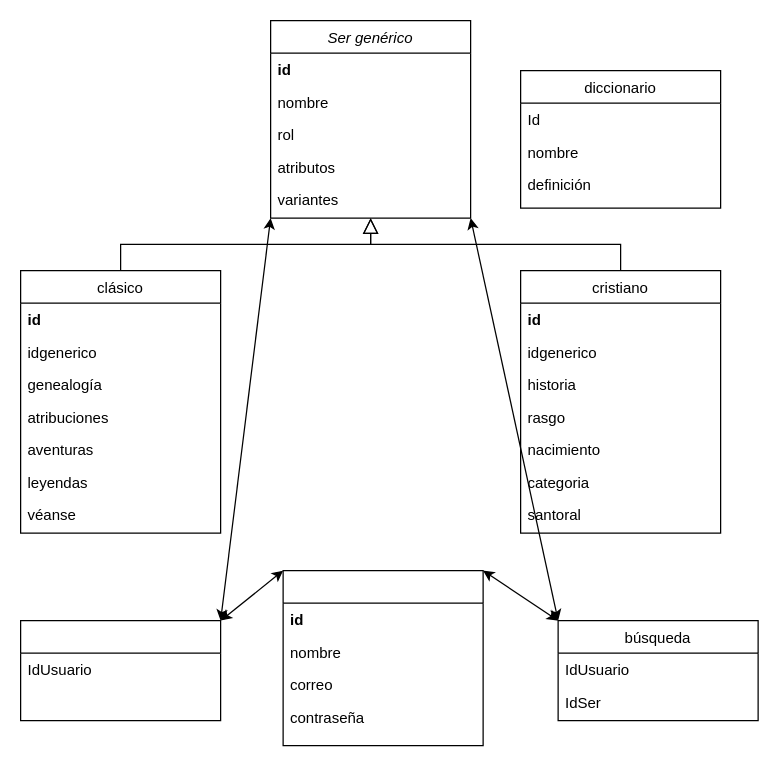
Some shapes in this 779 by 766 pixel diagram are drawn without their labels. The shapes that lost their labels are listed below. From the top down, each one's box as (x1, y1, x2, y2) in pixels, then its label:
(19, 619, 221, 721): favoritos
(282, 569, 483, 746): usuario
